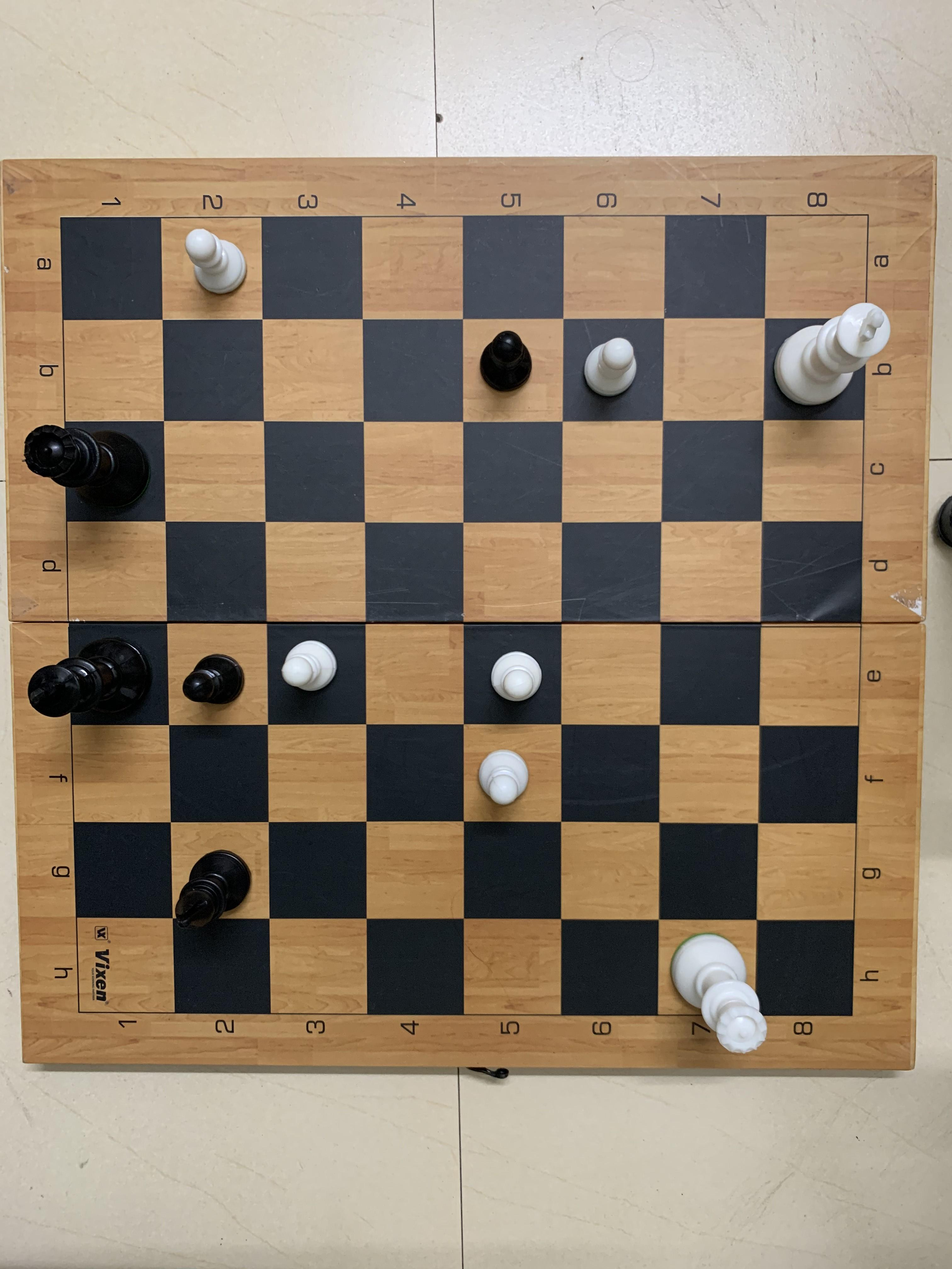black_king: (16, 624, 173, 732)
black_knight: (157, 845, 260, 968)
black_pawn: (466, 320, 539, 405), (176, 648, 249, 719)
black_queen: (16, 408, 168, 519)
white_king: (745, 299, 895, 421)
white_pawn: (173, 220, 274, 324), (273, 618, 350, 707), (575, 328, 656, 408), (469, 742, 541, 816), (488, 640, 553, 713)
white_queen: (655, 918, 775, 1062)
